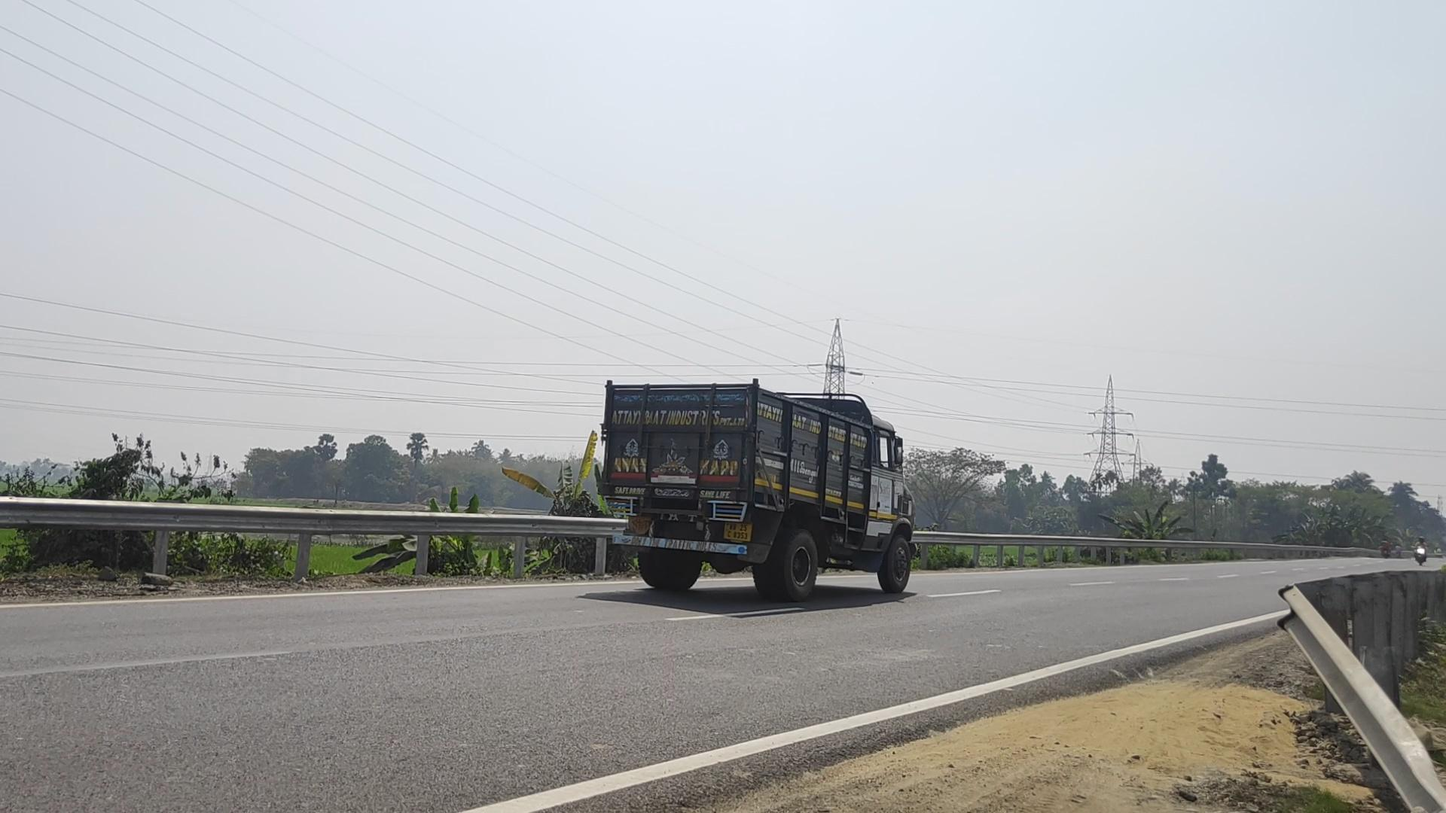truck: (602, 378, 918, 603)
